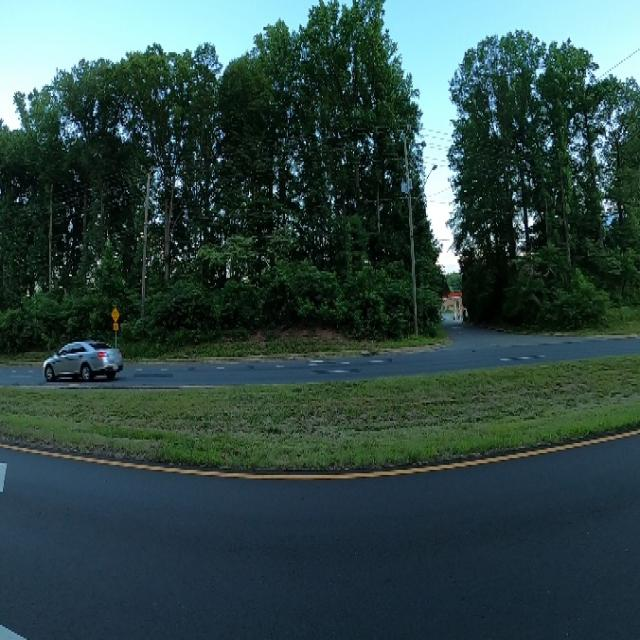cars: (42, 330, 126, 388)
